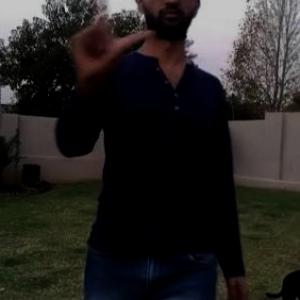land_hand: (56, 0, 160, 89)
